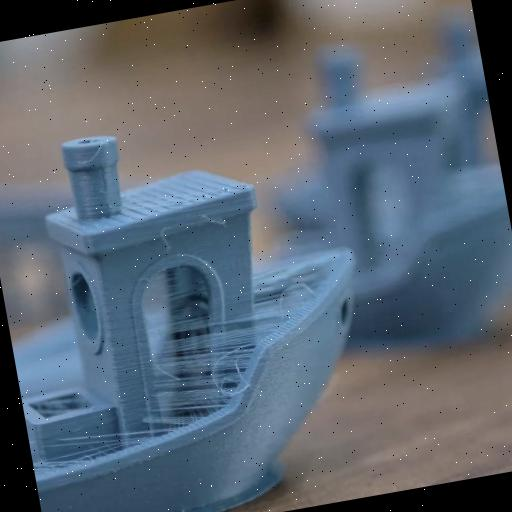stringing: (34, 310, 256, 472)
